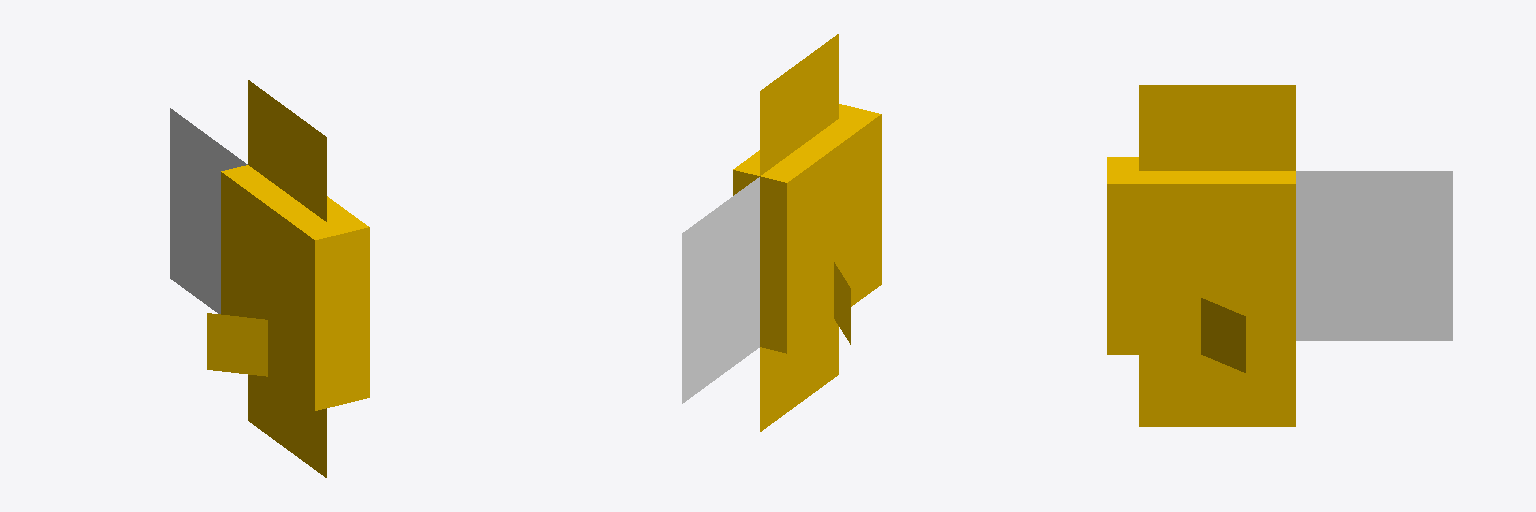
File: TropicalBigBody.obj
3 views of the same model, side by side, from view 1: azimuth 30°, elevation 25°; view 2: azimuth 150°, elevation 25°; view 3: azimuth 270°, elevation 25° (orthographic).
Parts seen in each view (by area): view 1: TropicalBigBody; view 2: TropicalBigBody; view 3: TropicalBigBody.
Boxes of the visible parts, box(x1,y1,x2,y2) form: TropicalBigBody: box(170, 80, 369, 477); TropicalBigBody: box(682, 34, 881, 431); TropicalBigBody: box(1107, 85, 1452, 426).
Size of the model in its own units: 4.83 by 12 by 11.